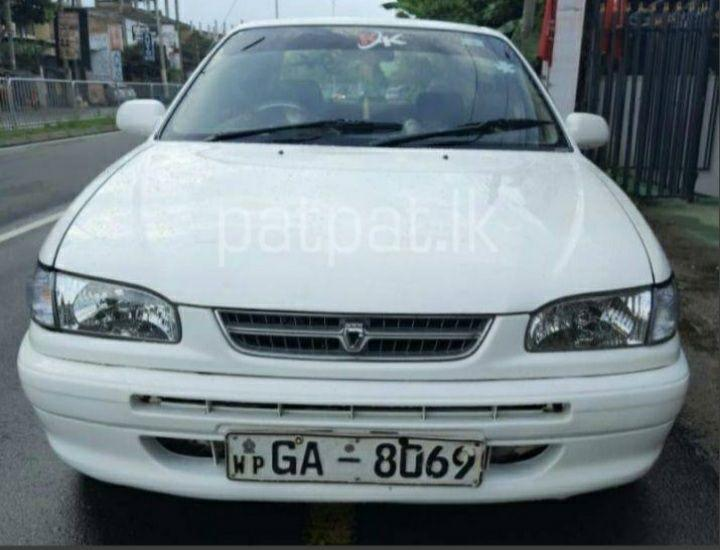license-plate: (223, 430, 482, 490)
